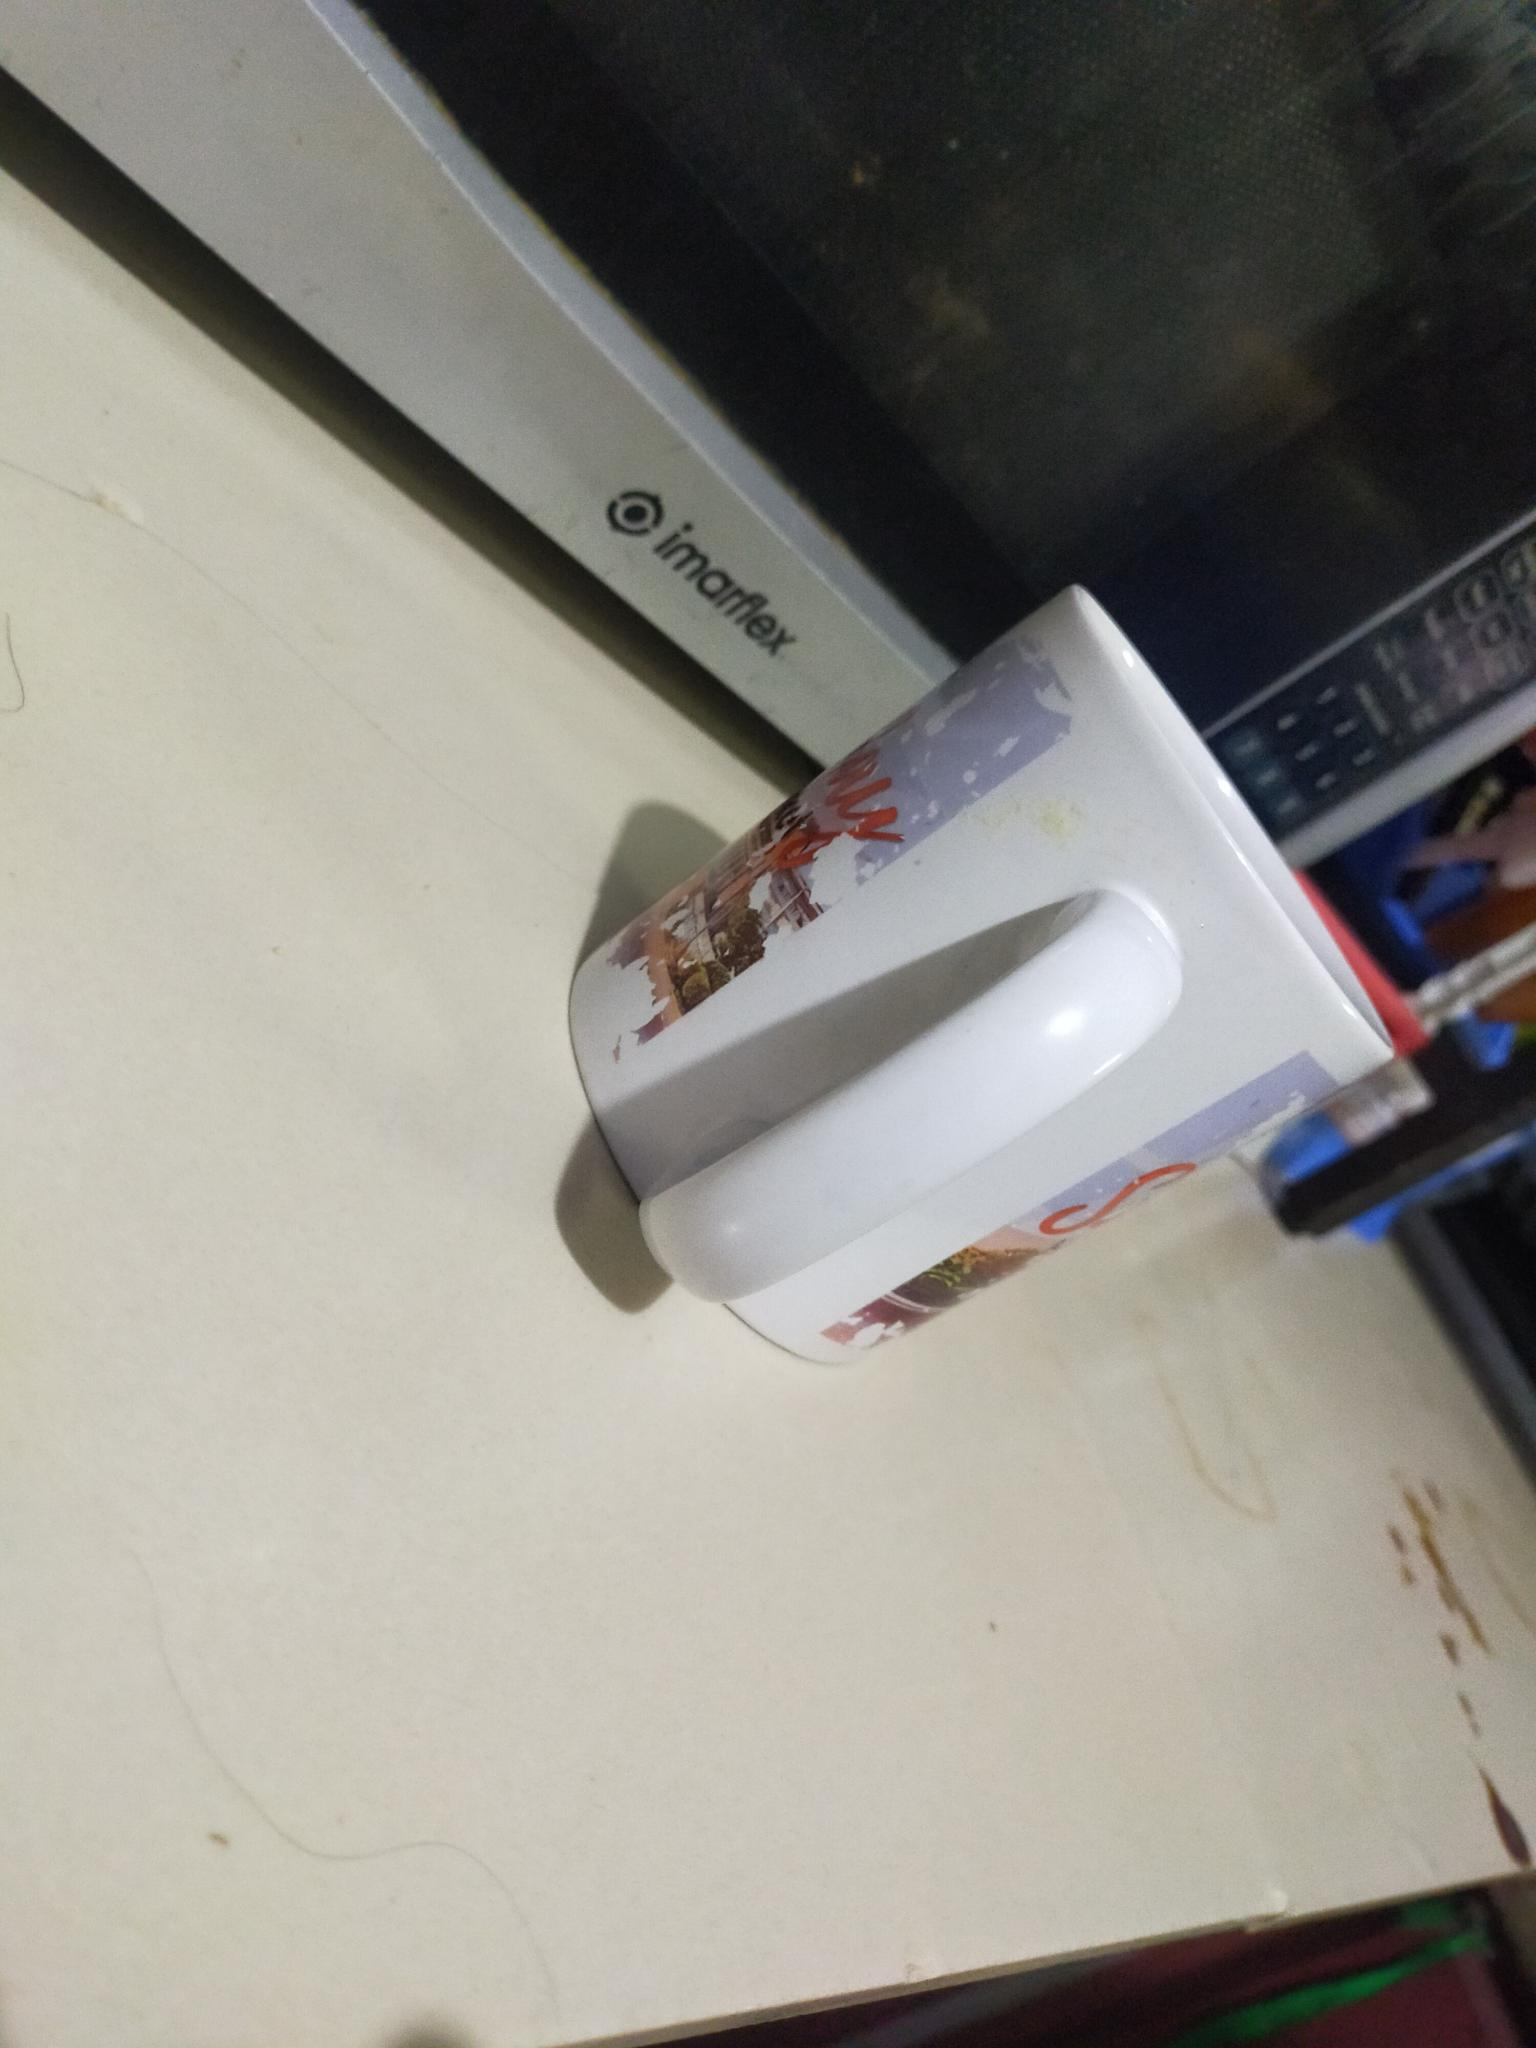Coffee Mug: (568, 589, 1388, 1359)
